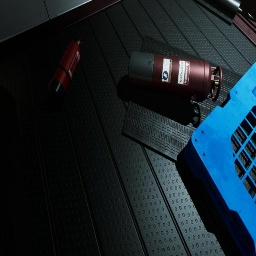FireExtinguisher ]: (47, 33, 87, 106)
NitrogenTank ,: (128, 51, 222, 102)
